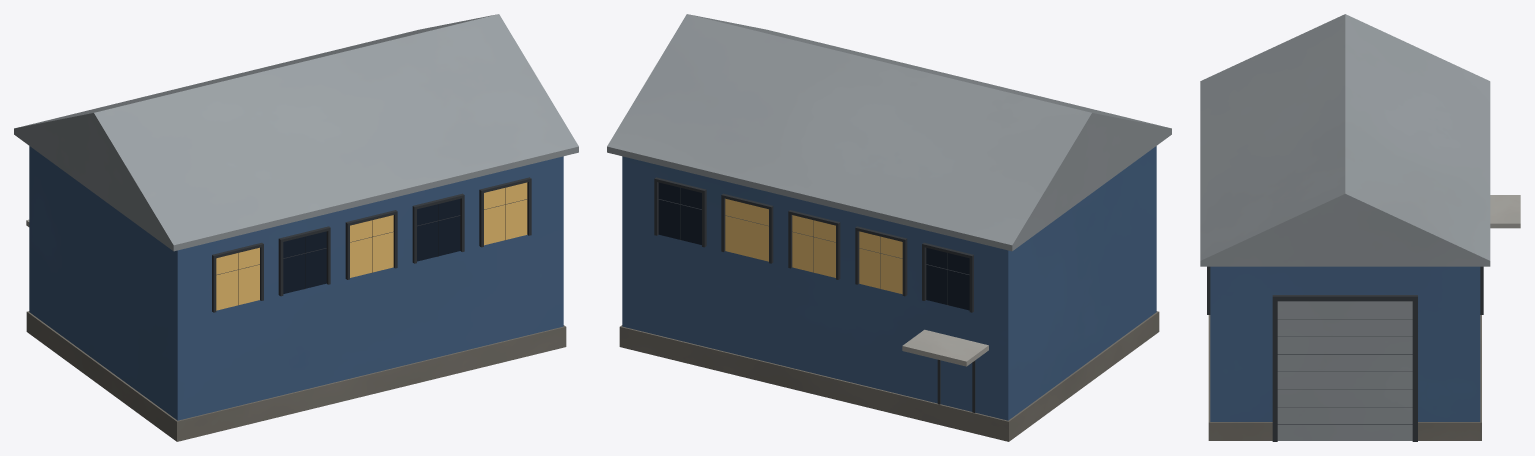
The model's file is pv_hala_sedlova.glb.
3 renders of one model, left to right at view 1: azimuth 30°, elevation 25°; view 2: azimuth 150°, elevation 25°; view 3: azimuth 270°, elevation 25°, orthographic. The views are drawn at different scales.
Visible parts, largest first — view 1: dum, noc; view 2: dum, noc; view 3: dum.
Part boxes in pixels (x1,y1,x2,y2): dum: (14,14,578,441); noc: (216,182,527,310); dum: (607,14,1171,441); noc: (725,198,902,294); dum: (1200,14,1520,441).
Size of the model in its own units: 12.57 by 8.18 by 9.48.
Materials: 1 (1 with a texture image).
